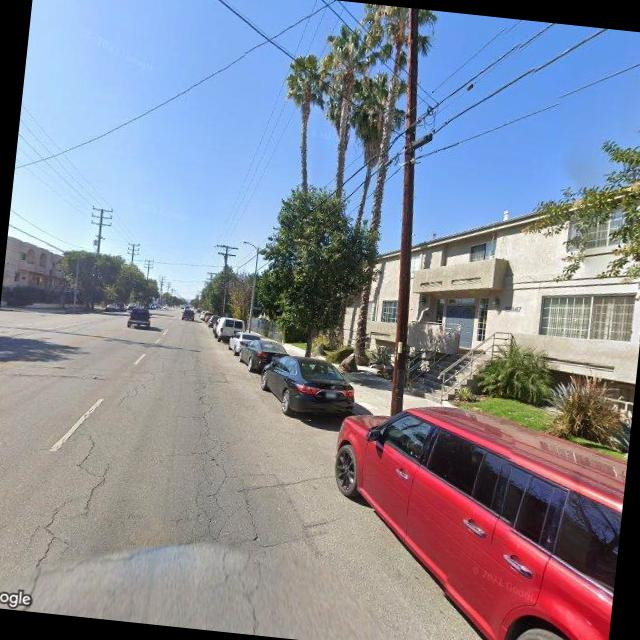pothole: (166, 369, 286, 632), (19, 422, 104, 616)
